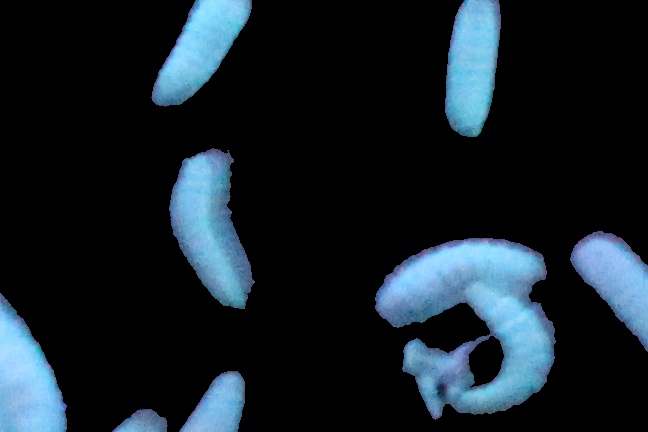larvae: (374, 236, 545, 324), (1, 274, 82, 432), (171, 151, 250, 309), (459, 281, 549, 419), (153, 1, 252, 113), (566, 229, 648, 363), (447, 1, 501, 141), (174, 366, 260, 432)
